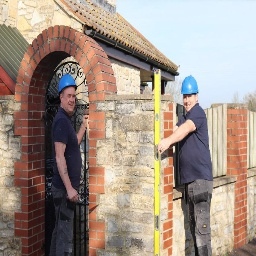helmet: (56, 73, 79, 97), (180, 76, 200, 101)
no-vest: (174, 107, 214, 193), (52, 107, 83, 202)
person: (172, 75, 215, 256), (50, 72, 84, 256)
